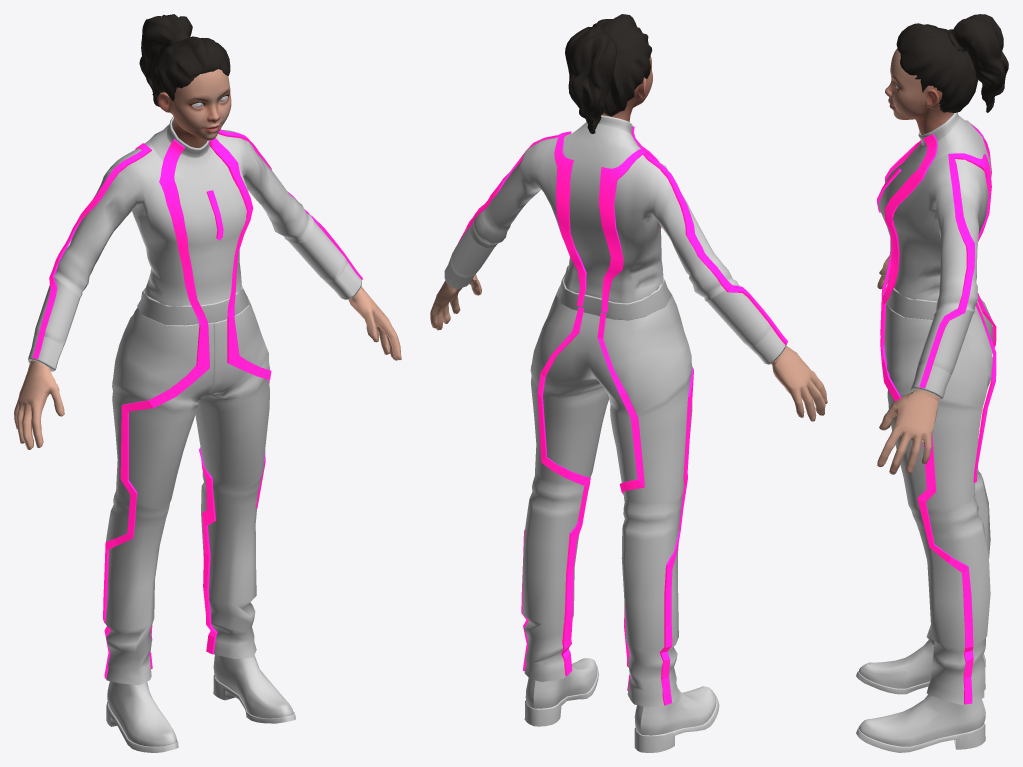
The model's file is Dress_ceo.fbx.
3 views of the same model, side by side, from view 1: azimuth 30°, elevation 25°; view 2: azimuth 150°, elevation 25°; view 3: azimuth 270°, elevation 25° (orthographic). The views are drawn at different scales.
Visible parts, largest first — view 1: Dress:pan_geo, Dress:tshirt_geo, Dress:line_geo, Dress:shoe_geo, Dress:Wolf3D_Hair, Dress:Wolf3D_Head, Dress:body_geo1, Dress:body_geo; view 2: Dress:pan_geo, Dress:tshirt_geo, Dress:line_geo, Dress:Wolf3D_Hair, Dress:shoe_geo, Dress:body_geo1, Dress:body_geo; view 3: Dress:pan_geo, Dress:tshirt_geo, Dress:line_geo, Dress:Wolf3D_Hair, Dress:shoe_geo, Dress:body_geo, Dress:Wolf3D_Head.
Part boxes in pixels (left/top/right/bottom): Dress:pan_geo: left=105, top=285, right=269, bottom=685; Dress:tshirt_geo: left=28, top=116, right=361, bottom=371; Dress:line_geo: left=32, top=129, right=362, bottom=678; Dress:shoe_geo: left=106, top=654, right=295, bottom=752; Dress:Wolf3D_Hair: left=139, top=14, right=230, bottom=106; Dress:Wolf3D_Head: left=157, top=69, right=231, bottom=147; Dress:body_geo1: left=14, top=360, right=64, bottom=449; Dress:body_geo: left=348, top=286, right=401, bottom=360; Dress:pan_geo: left=522, top=273, right=692, bottom=707; Dress:tshirt_geo: left=444, top=115, right=786, bottom=364; Dress:line_geo: left=458, top=126, right=787, bottom=705; Dress:Wolf3D_Hair: left=565, top=14, right=652, bottom=133; Dress:shoe_geo: left=524, top=658, right=719, bottom=752; Dress:body_geo1: left=771, top=346, right=827, bottom=421; Dress:body_geo: left=430, top=274, right=481, bottom=330; Dress:pan_geo: left=882, top=274, right=993, bottom=704; Dress:tshirt_geo: left=878, top=112, right=991, bottom=400; Dress:line_geo: left=877, top=120, right=996, bottom=704; Dress:Wolf3D_Hair: left=896, top=14, right=1008, bottom=112; Dress:shoe_geo: left=856, top=640, right=985, bottom=752; Dress:body_geo: left=877, top=389, right=939, bottom=474; Dress:Wolf3D_Head: left=885, top=48, right=953, bottom=134.
Bounding box in the file's own units: 106 × 187 × 37.09.
